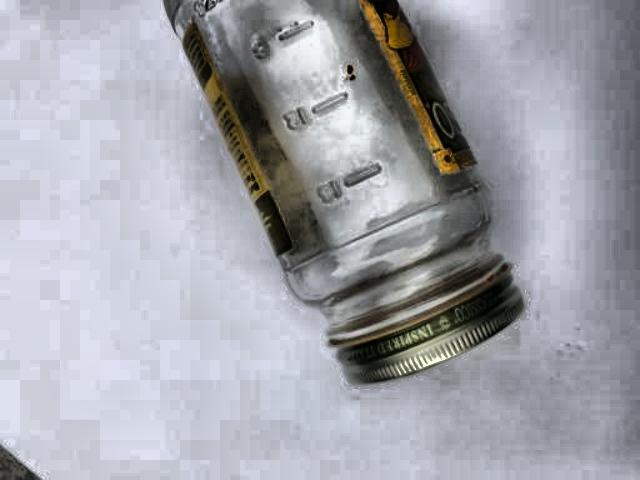Almennt: (132, 0, 536, 404)
